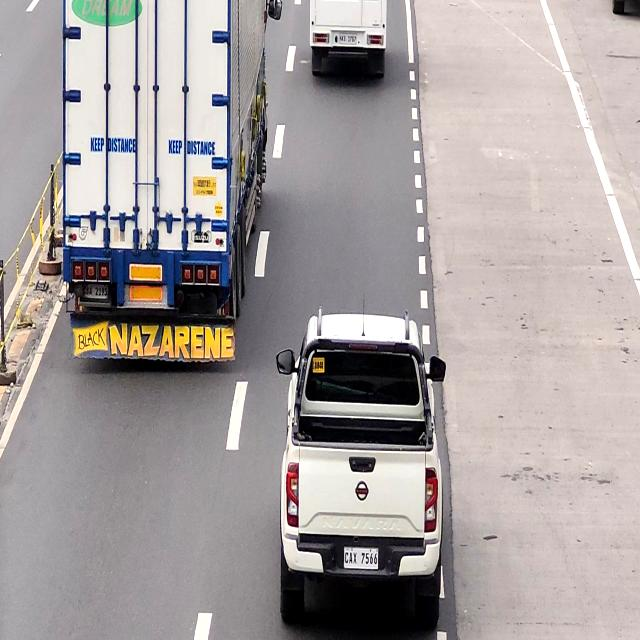Car: (284, 311, 447, 627)
License-Plate: (341, 542, 381, 572), (81, 280, 109, 304)
Truck: (70, 0, 265, 355)
